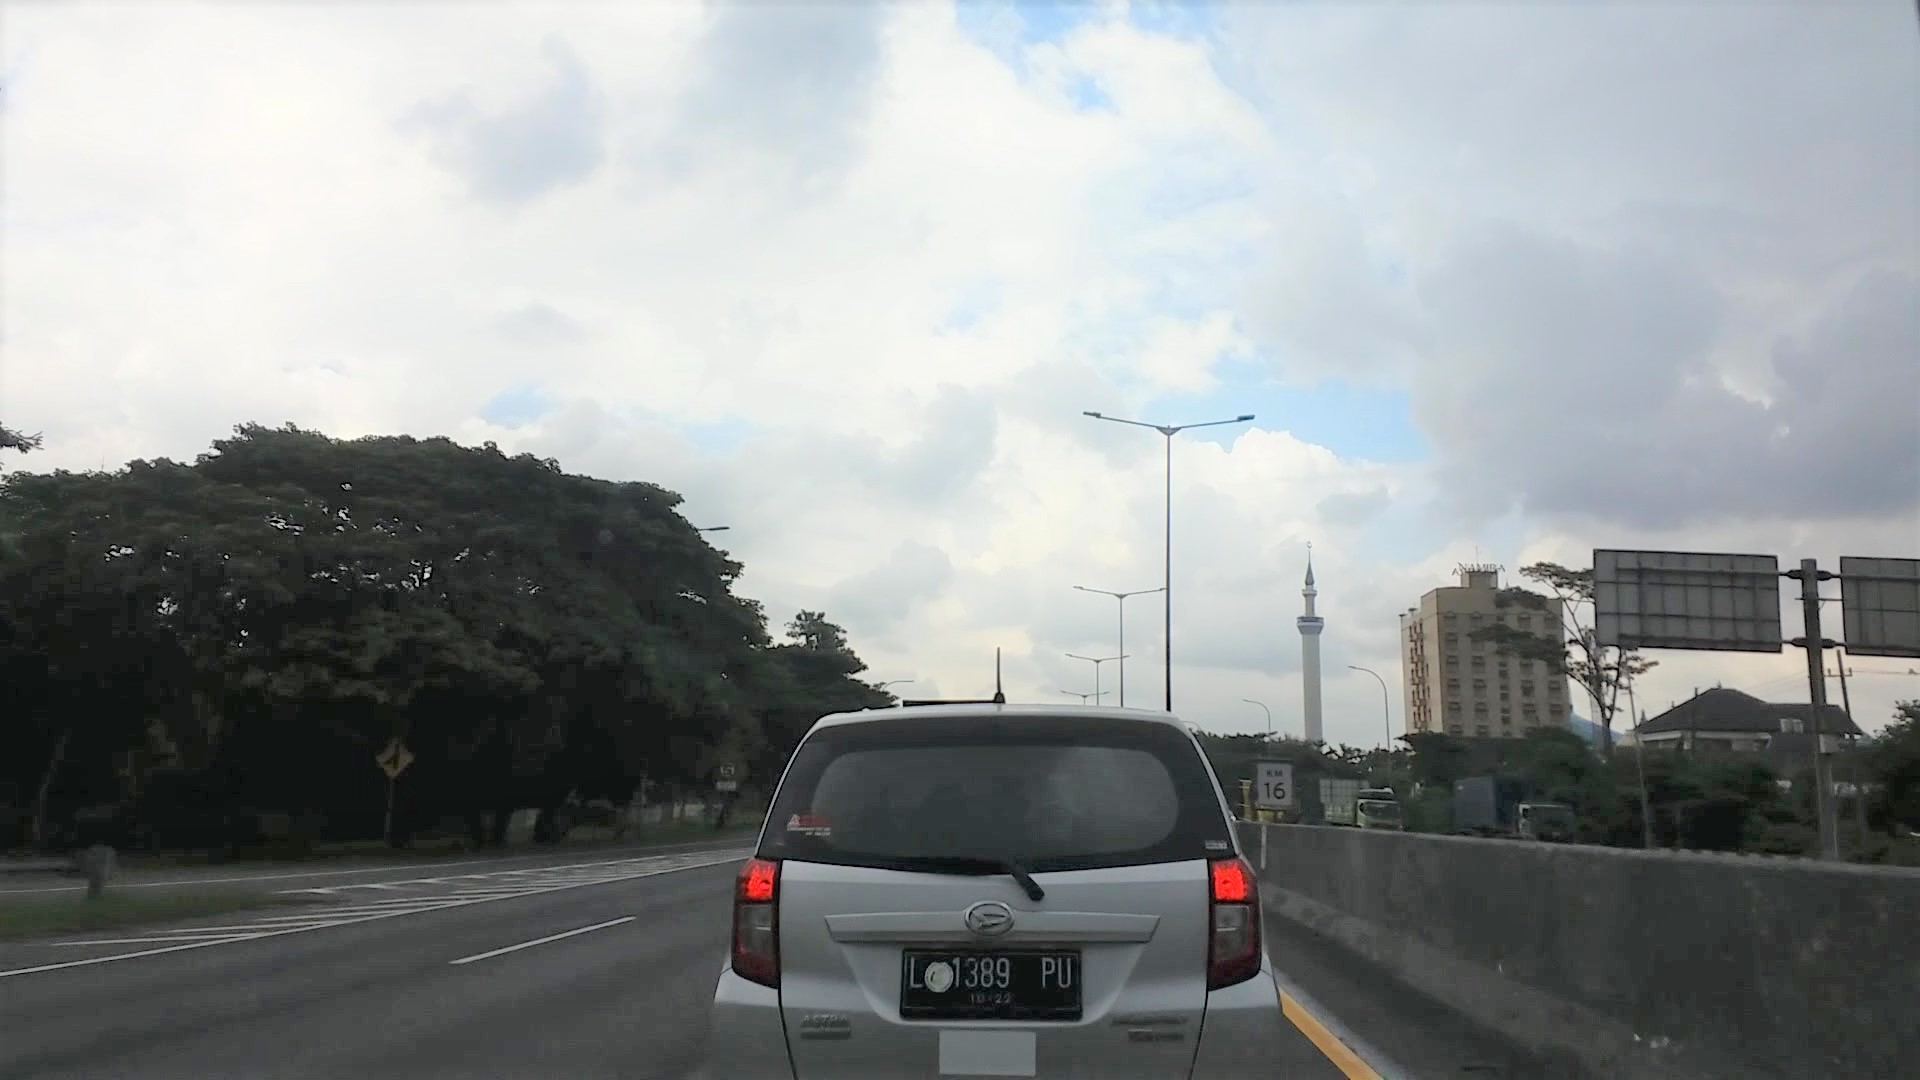plate_positive: (899, 945, 1083, 1021)
